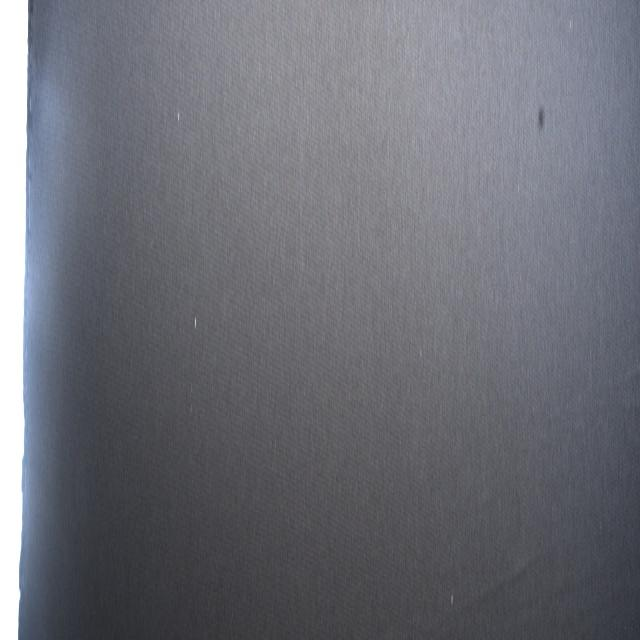crease: (427, 509, 577, 640), (589, 341, 637, 429)
whiteDefect: (193, 311, 198, 333), (176, 107, 181, 128), (189, 396, 193, 417)
